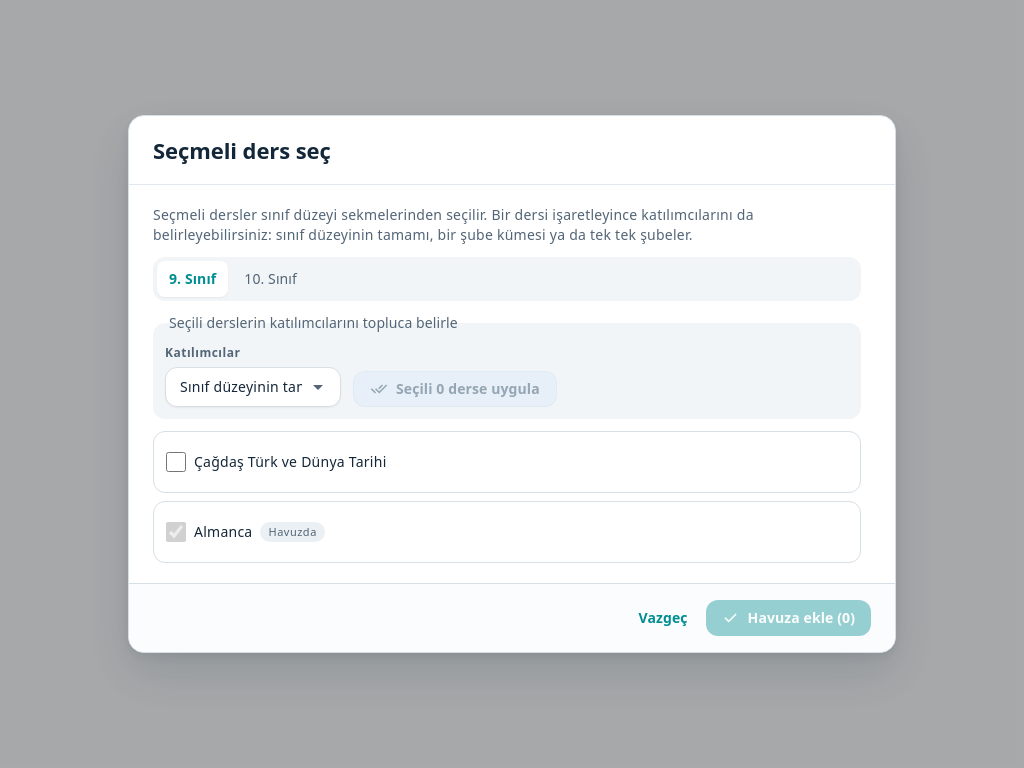
SecmeliDersSecimDialog › şube seçilmemiş “Seçili şubeler” satırı kaydetmeyi kapatır
Step 1. Click the checkbox labelled "Çağdaş Türk ve Dünya Tarihi" → click(176, 462), box [166,452,186,472]
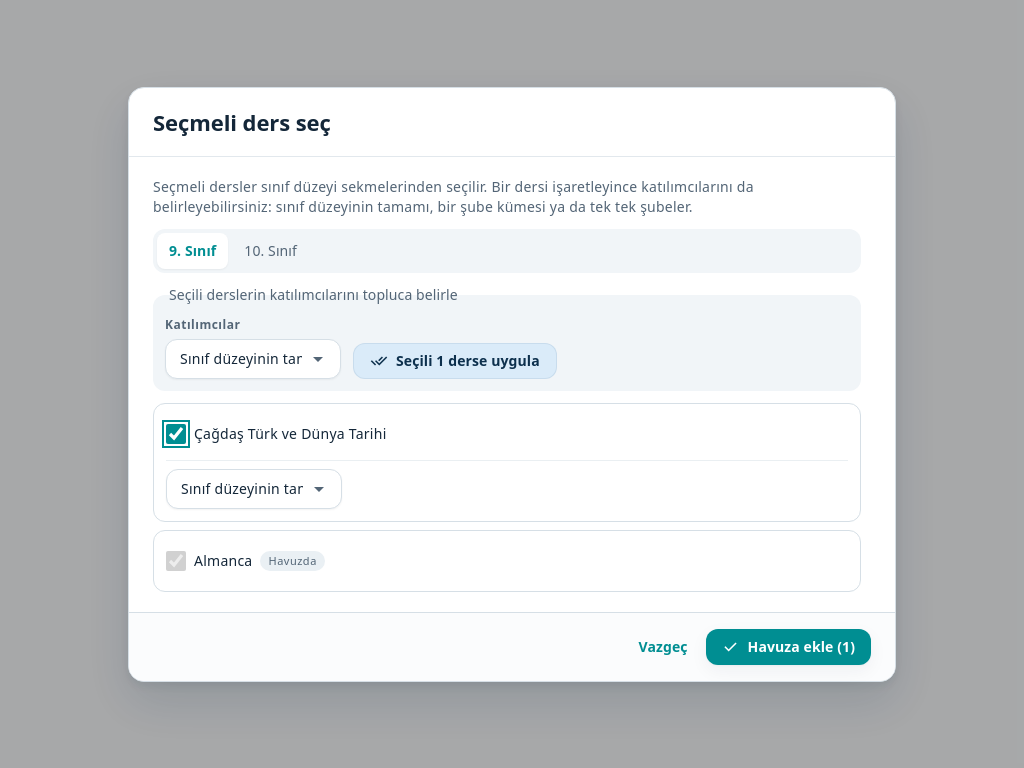
Step 2. Select "Seçili şubeler" in the dropdown named "Çağdaş Türk ve Dünya Tarihi katılımcı kapsamı" → (242, 488), box [177,478,307,498]
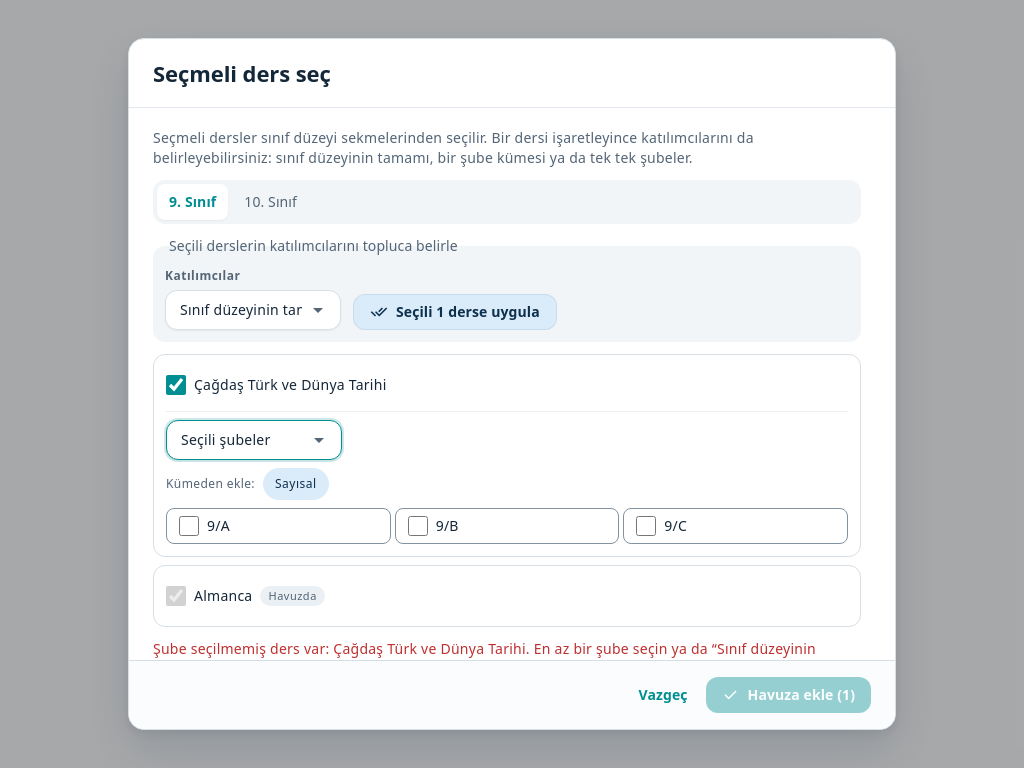
Check: the button "Havuza ekle (1)" is disabled, box [706,677,871,713]
Check: the message shows "Şube seçilmemiş ders var", box [153,639,333,658]
